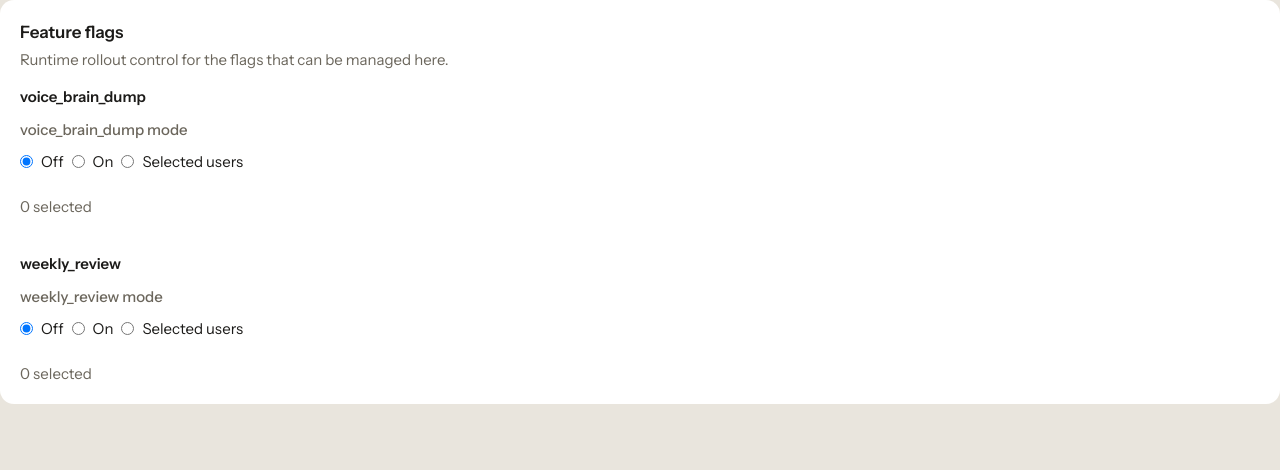
Test: AdminFeatureFlagsSection (010-FR-010, design F-01…F-13) › 010-SC-008: F-10 surfaces the correlation ID and reverts to the last server-confirmed state
This screenshot has width=1280, height=470.
Expected: the element "voice_brain_dump" is shown, [20,87,243,216]
Click the 1st radio button labelled "On". click: (78, 162)
box: [72,155,85,168]
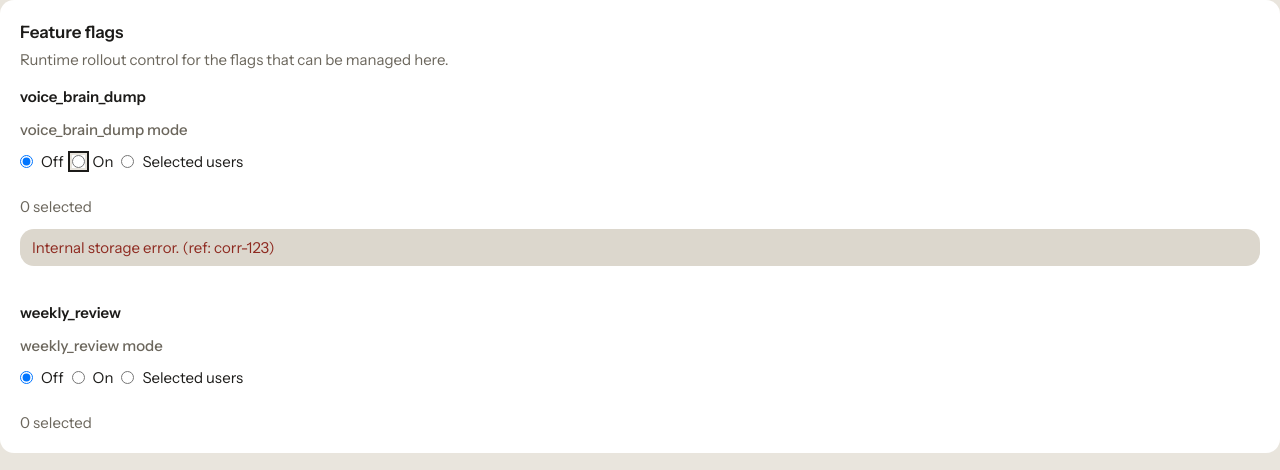
Expected: the message shows "corr-123", [32,238,274,257]
